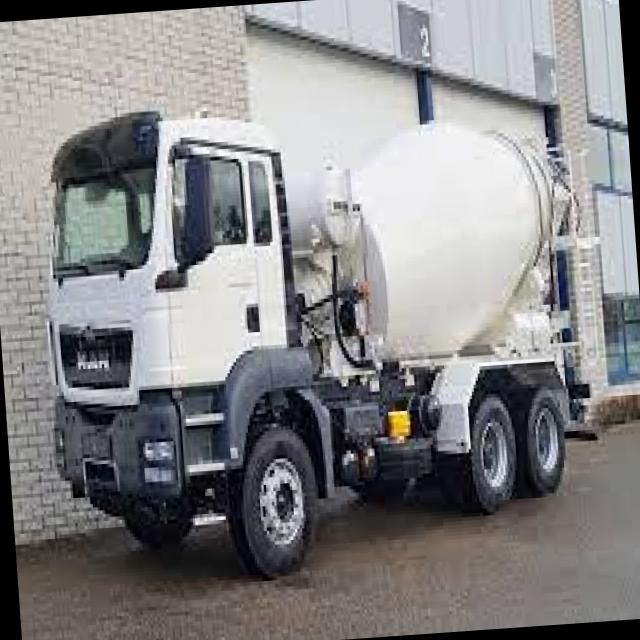Mixer Truck: (27, 74, 622, 593)
